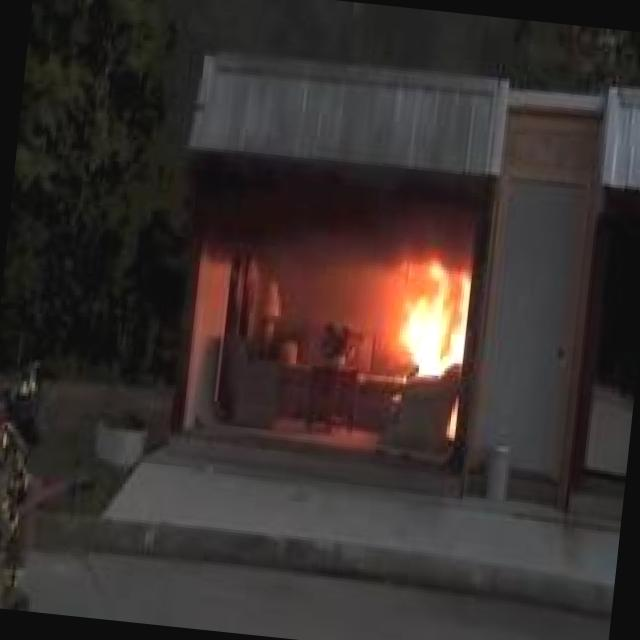fire: (380, 225, 493, 388)
